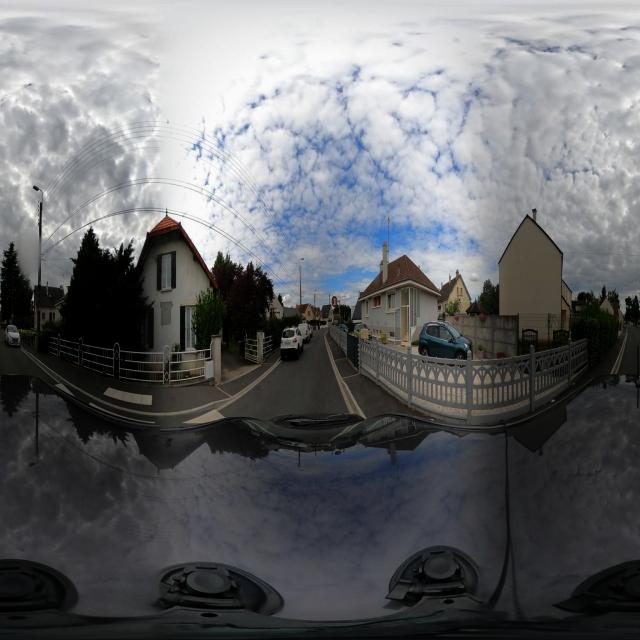car: (418, 321, 473, 361), (280, 326, 302, 361), (5, 323, 21, 348), (298, 322, 312, 342)
